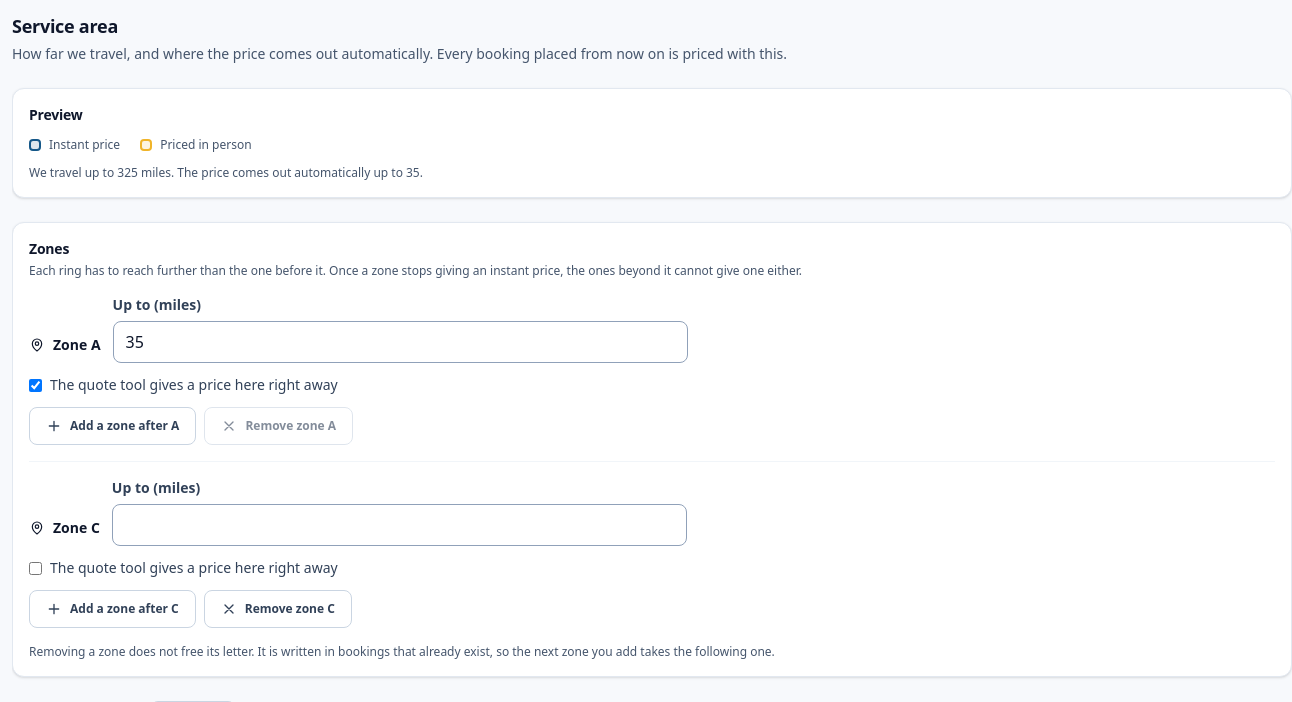
el area de servicio: anadir y quitar zonas › con un campo a medio teclear no se anade ni se quita nada
The width and height of the screenshot is (1292, 702).
Clear the 2nd number field labelled "Up to (miles)": (400, 525) [112, 504, 687, 546]
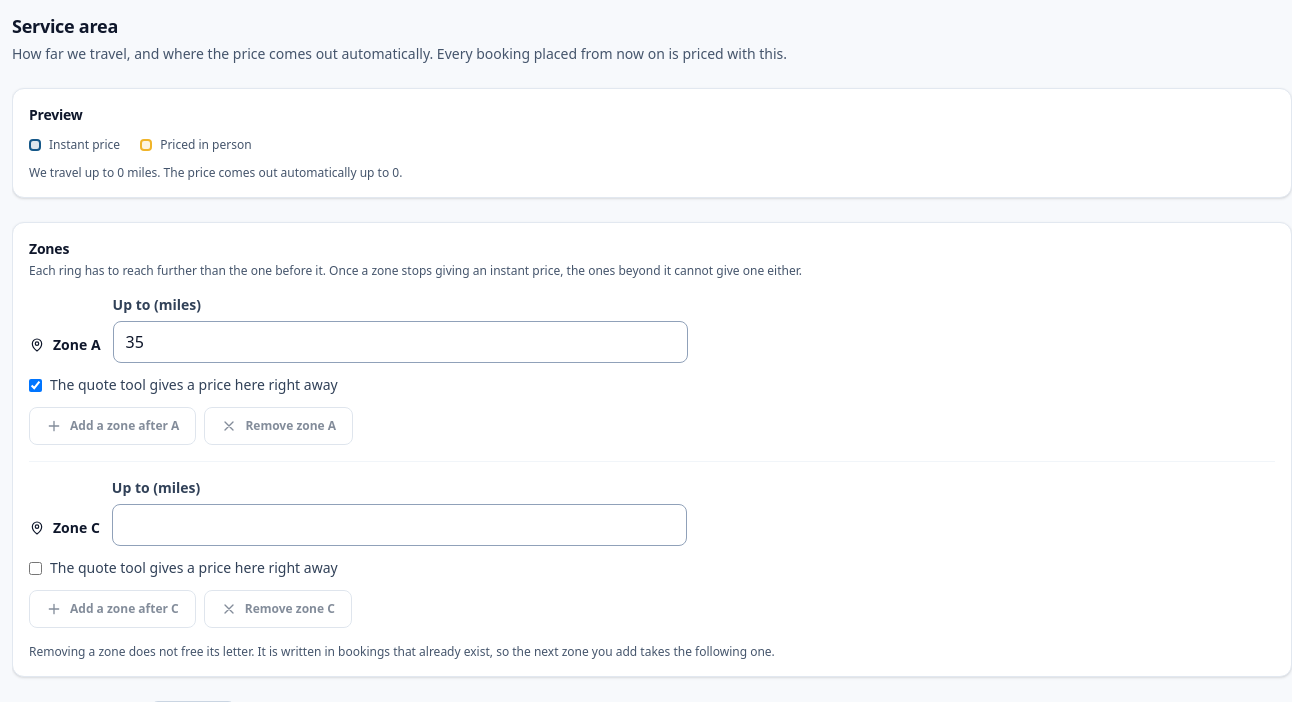
expect the button "Add a zone after A" is disabled: met, box [29, 407, 196, 445]
expect the button "Remove zone C" is disabled: met, box [204, 590, 352, 628]
